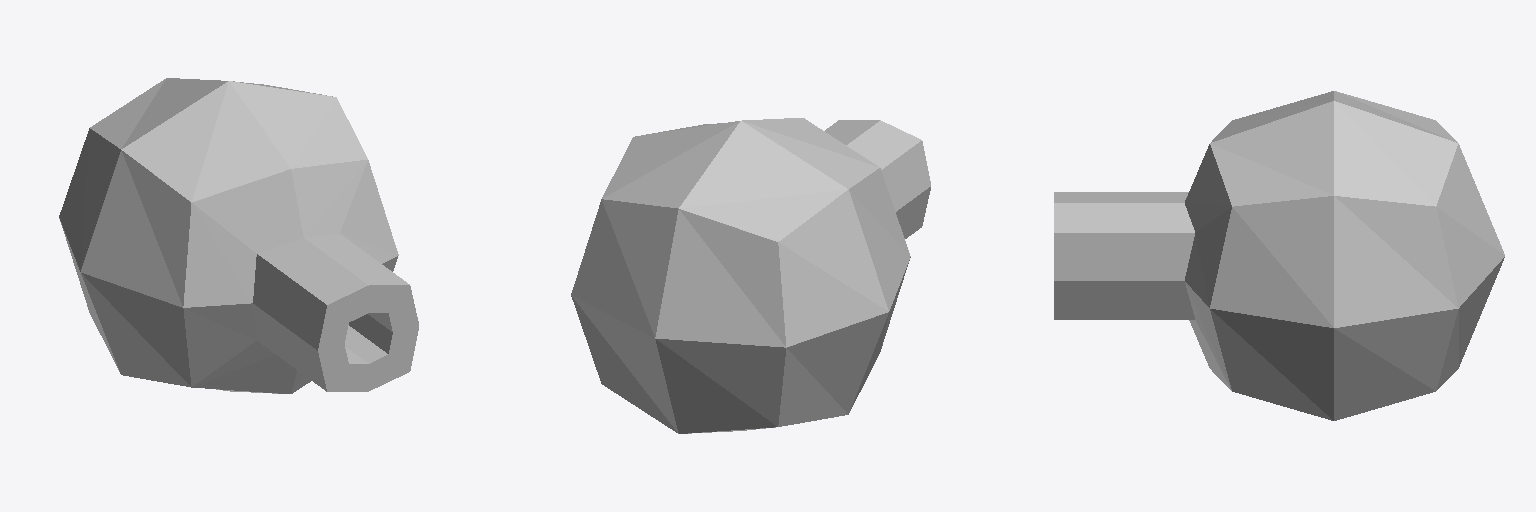
File: ranged enemy.obj
3 views of the same model, side by side, from view 1: azimuth 30°, elevation 25°; view 2: azimuth 150°, elevation 25°; view 3: azimuth 270°, elevation 25° (orthographic).
Visible parts, largest first — view 1: Cube; view 2: Cube; view 3: Cube.
Part boxes in pixels (x1,y1,x2,y2): Cube: (59,78,418,393); Cube: (571,118,930,433); Cube: (1054,91,1504,420).
Bounding box in the file's own units: 4.71 × 4.71 × 6.2.